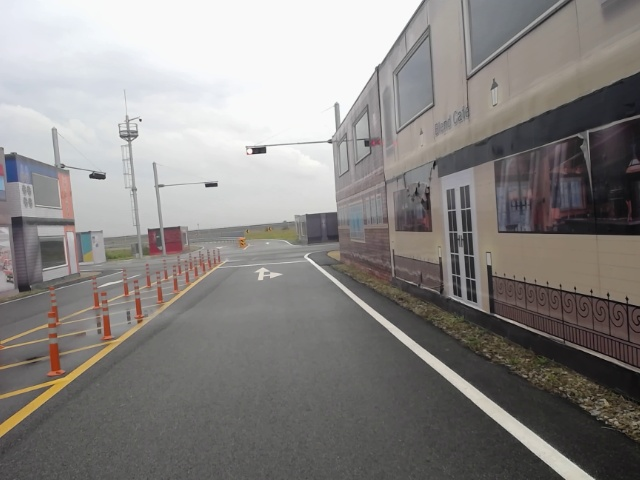red_3: (246, 146, 267, 155)
